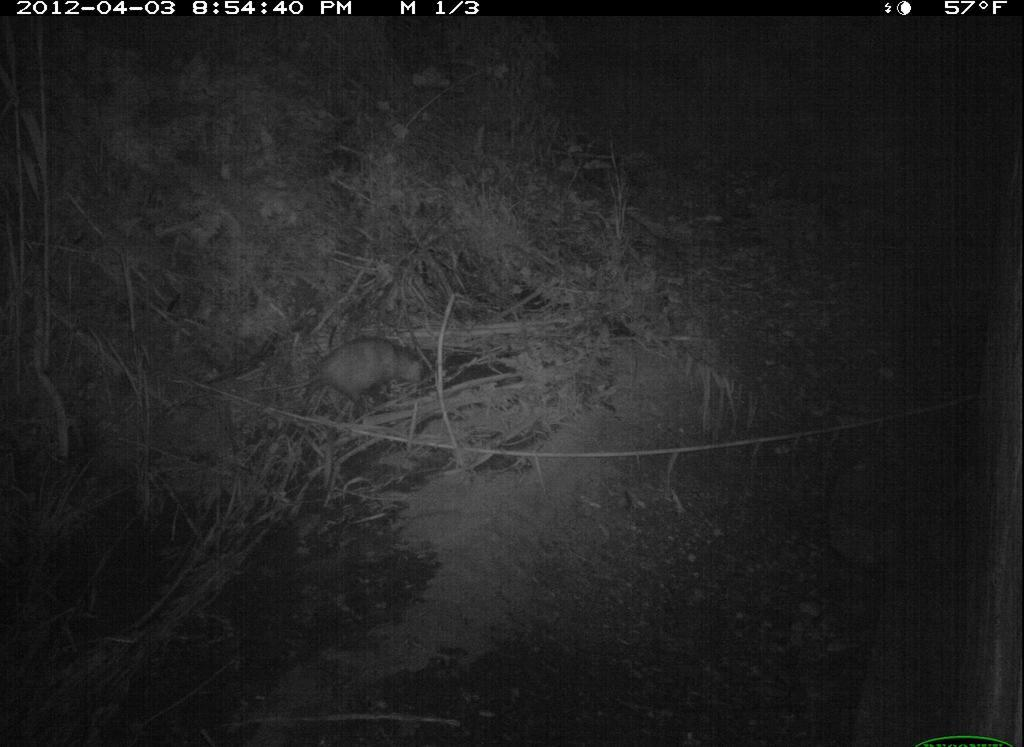opossum: (280, 326, 452, 411)
